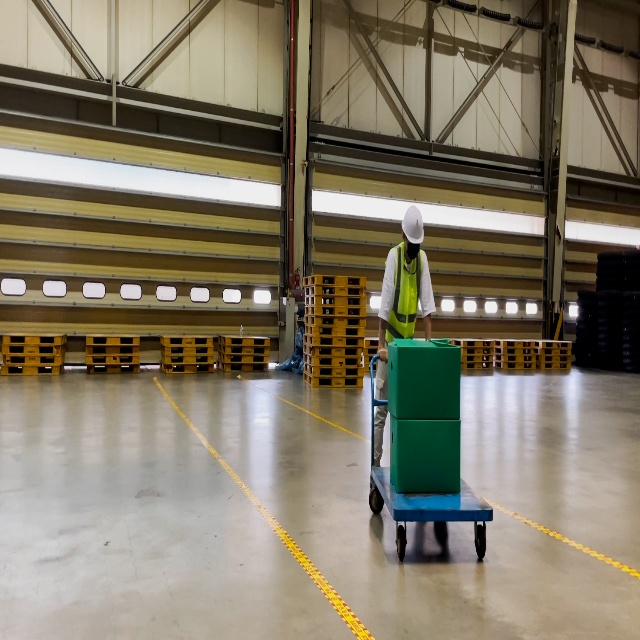Box: (388, 339, 461, 420), (390, 412, 461, 494)
Worker: (374, 204, 436, 466)
